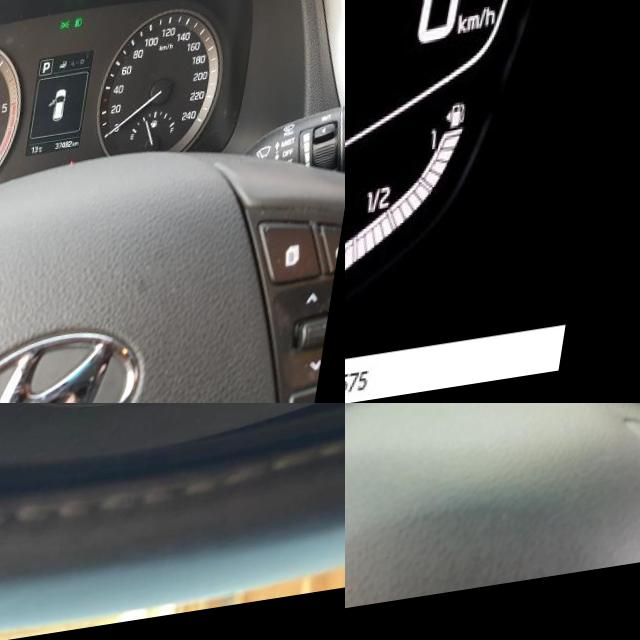FrontFogLight: (80, 28, 88, 39)
SideLamp: (64, 29, 75, 40)
